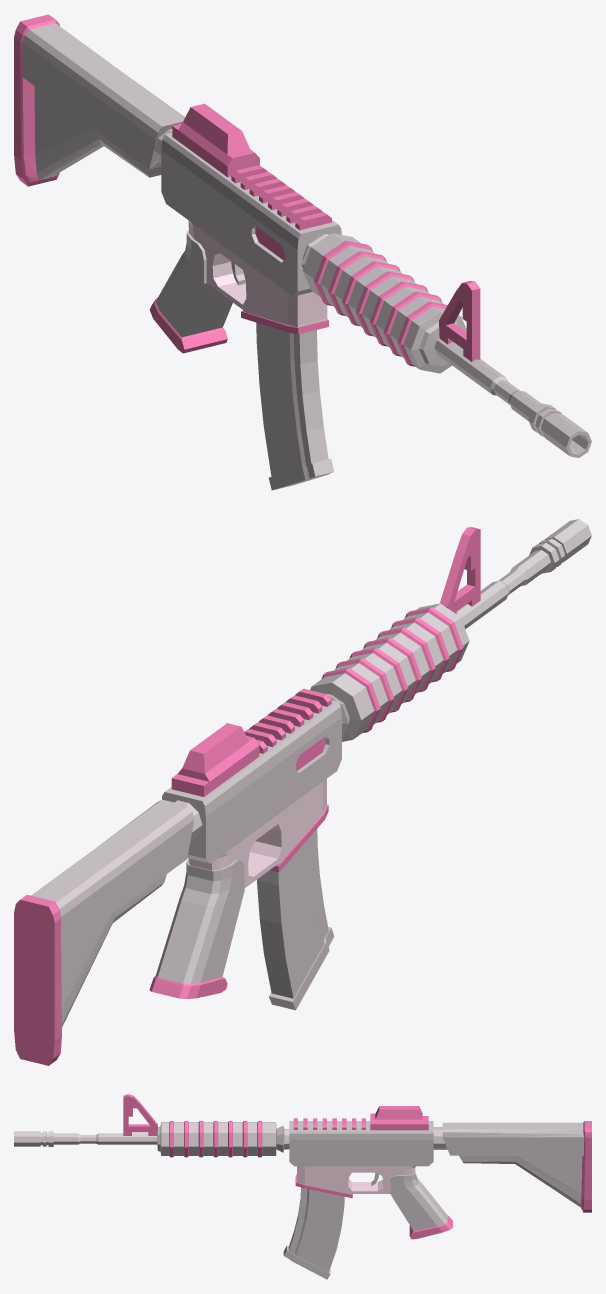
Rendered from AssaultRifle2_1.obj.
The picture shows the model from 3 angles, top to bottom: view 1: azimuth 30°, elevation 25°; view 2: azimuth 150°, elevation 25°; view 3: azimuth 270°, elevation 25°; orthographic projection. The views are drawn at different scales.
Parts seen in each view (by area): view 1: Body, Grip, Mag, Panel; view 2: Body, Grip, Mag, Panel; view 3: Body, Grip, Mag, Panel.
Boxes of the visible parts, box(x1,y1,x2,y2) form: Body: box(22, 23, 591, 457); Grip: box(14, 14, 480, 366); Mag: box(256, 322, 334, 490); Panel: box(188, 220, 327, 327); Body: box(31, 519, 591, 1027); Grip: box(14, 527, 480, 1065); Mag: box(257, 829, 334, 1010); Panel: box(188, 779, 326, 887); Body: box(14, 1121, 584, 1231); Grip: box(123, 1094, 591, 1239); Mag: box(283, 1187, 344, 1279); Panel: box(297, 1166, 415, 1194).
Bounding box in the file's own units: 0.3686 × 1.91 × 5.5.
